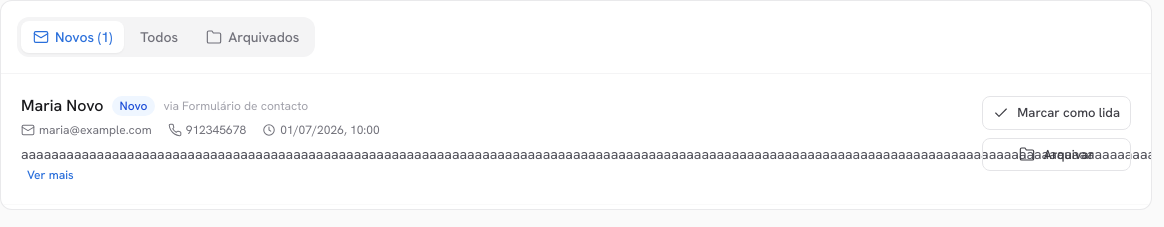
Scenario: LeadsInbox — lista e badges de estado › mostra nome, email, telefone, origem, data e badge de estado; trunca mensagem longa com 'Ver mais'
Expected: the text "Maria Novo" is shown, top-left (21, 94), bottom-right (104, 118)
Expected: the text "maria@example.com" is shown, top-left (21, 122), bottom-right (152, 138)
Note: Expandir mostra a mensagem completa
Click the button "Maria Novo": (62, 106) top-left (17, 90), bottom-right (974, 188)
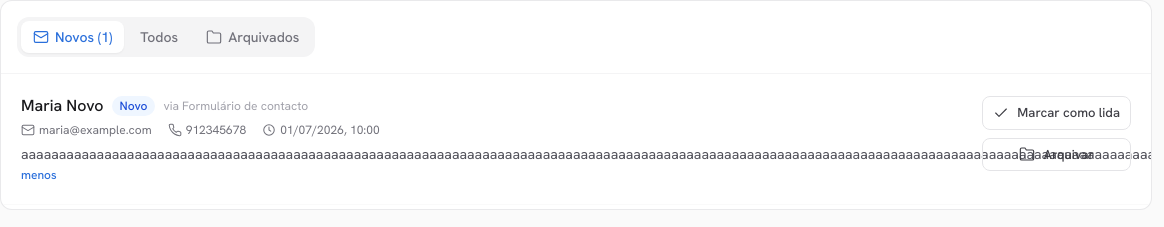
Result: the element with test id "lead-message-lead-new" shows "Ver menos" at top-left (21, 147), bottom-right (1152, 183)
